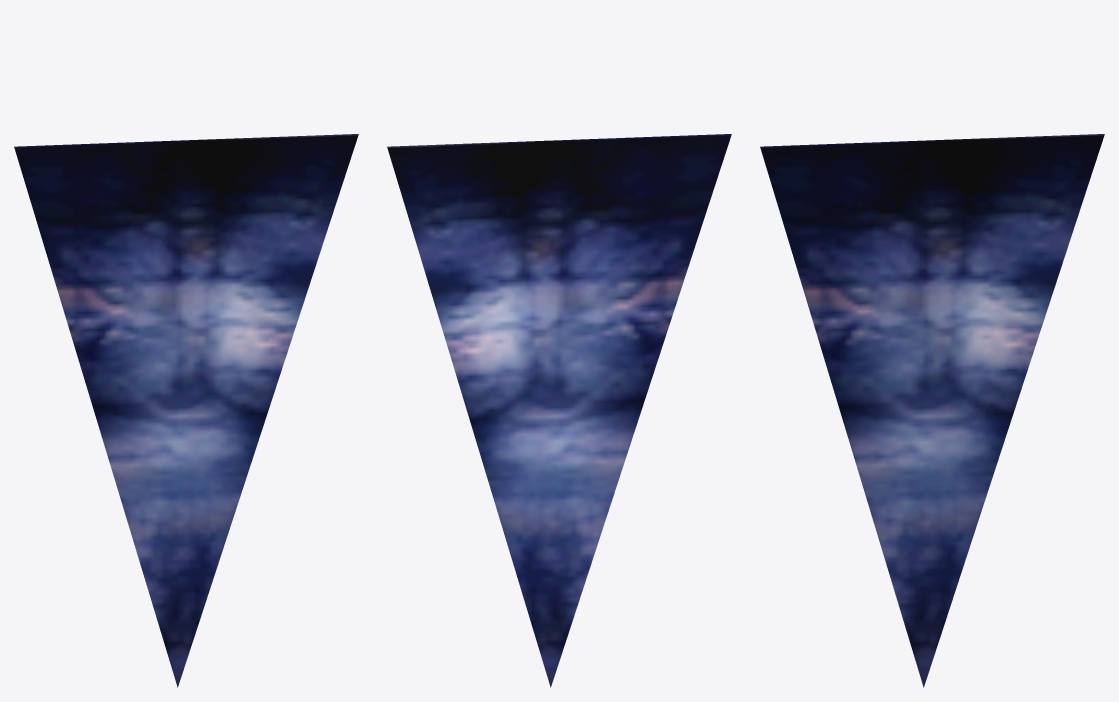
3 views of the same model, side by side, from view 1: azimuth 30°, elevation 25°; view 2: azimuth 150°, elevation 25°; view 3: azimuth 270°, elevation 25° (orthographic).
Parts seen in each view (by area): view 1: Object22; view 2: Object22; view 3: Object22.
Part boxes in pixels (box(x1,y1,x2,y2)): Object22: box(14, 134, 358, 687); Object22: box(387, 134, 731, 687); Object22: box(760, 134, 1104, 687).
Bounding box in the file's own units: 1010 × 2095 × 1110.
1 material, 1 textured.
